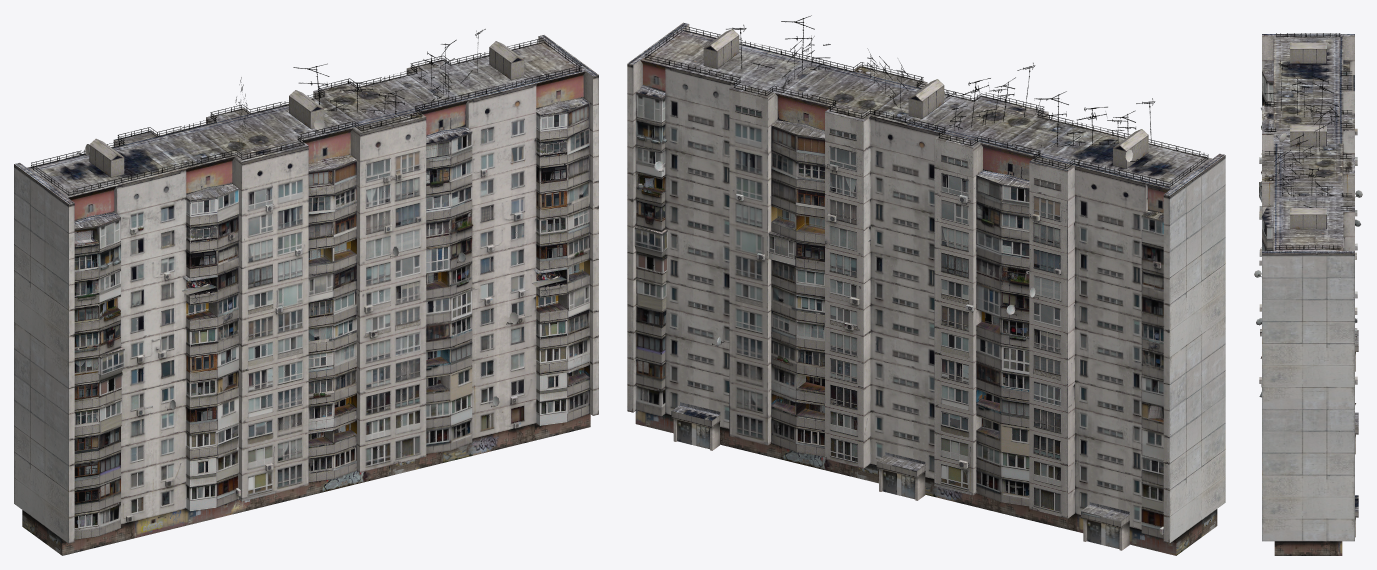
Rendered from panel12.glb.
3 views of the same model, side by side, from view 1: azimuth 30°, elevation 25°; view 2: azimuth 150°, elevation 25°; view 3: azimuth 270°, elevation 25° (orthographic). The views are drawn at different scales.
Visible parts, largest first — view 1: 12stbuilding1_LOD0_12storeybuilding1_0, 12stbuilding1_LOD0_antenna_0; view 2: 12stbuilding1_LOD0_12storeybuilding1_0, 12stbuilding1_LOD0_antenna_0; view 3: 12stbuilding1_LOD0_12storeybuilding1_0, 12stbuilding1_LOD0_antenna_0.
Part boxes in pixels (<box>): 12stbuilding1_LOD0_12storeybuilding1_0: <box>14,35,598,555</box>; 12stbuilding1_LOD0_antenna_0: <box>31,29,581,410</box>; 12stbuilding1_LOD0_12storeybuilding1_0: <box>627,22,1225,555</box>; 12stbuilding1_LOD0_antenna_0: <box>644,15,1208,345</box>; 12stbuilding1_LOD0_12storeybuilding1_0: <box>1254,34,1362,555</box>; 12stbuilding1_LOD0_antenna_0: <box>1257,33,1359,324</box>.
Bounding box in the file's own units: 50.45 × 37.5 × 10.58.
Materials: 2 (2 with a texture image).
